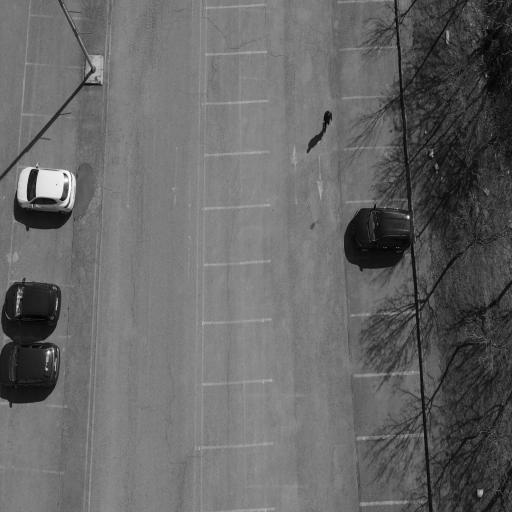car: (16, 164, 75, 214), (352, 204, 411, 253), (0, 343, 59, 386), (4, 279, 60, 324)
person: (322, 110, 331, 132)
